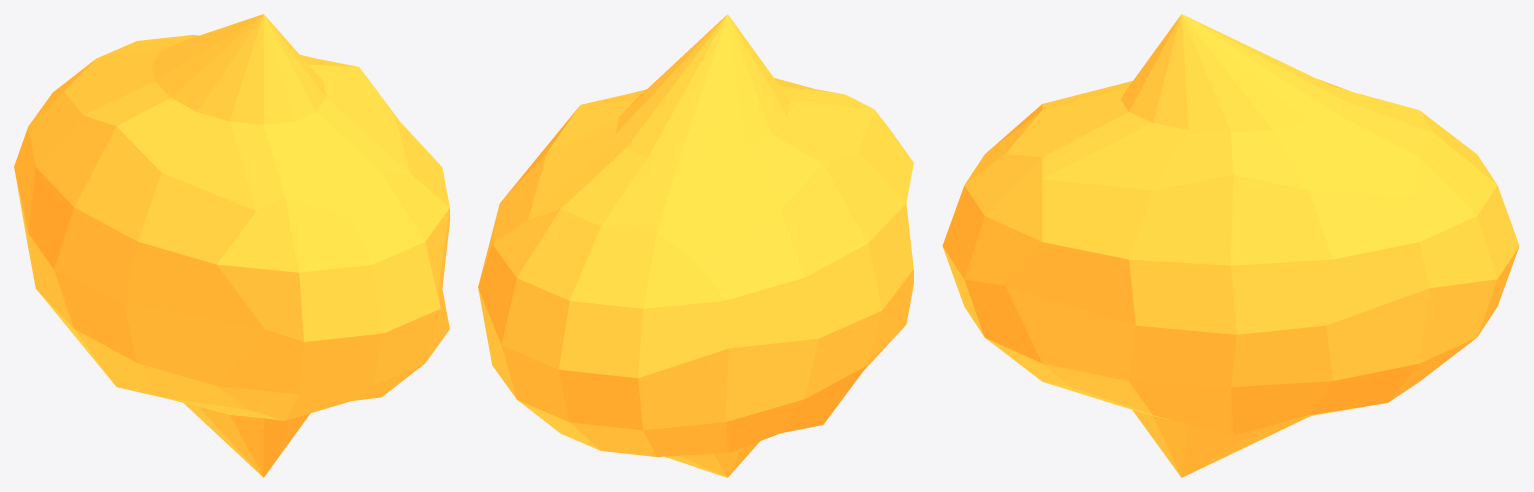
Rendered from flame_dragon_segment.glb.
The picture shows the model from 3 angles, left to right: view 1: azimuth 30°, elevation 25°; view 2: azimuth 150°, elevation 25°; view 3: azimuth 270°, elevation 25°; orthographic projection.
Parts seen in each view (by area): view 1: dragon_segment; view 2: dragon_segment; view 3: dragon_segment.
Part boxes in pixels (x1,y1,x2,y2): dragon_segment: (14,14,449,477); dragon_segment: (478,14,913,477); dragon_segment: (942,14,1519,477).
Bounding box in the file's own units: 1.24 × 1.51 × 1.7.
